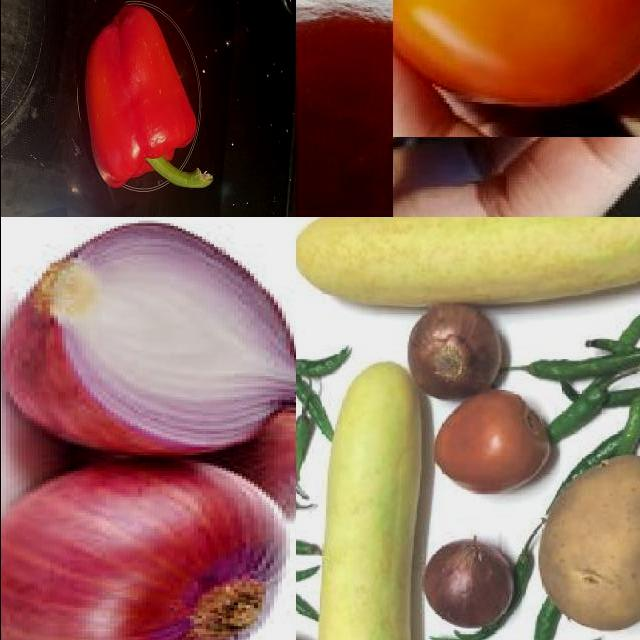bell_pepper: (74, 11, 207, 203)
onion: (1, 219, 296, 462), (1, 457, 296, 640), (422, 531, 513, 637), (412, 306, 510, 403)
tomato: (393, 1, 640, 137)
